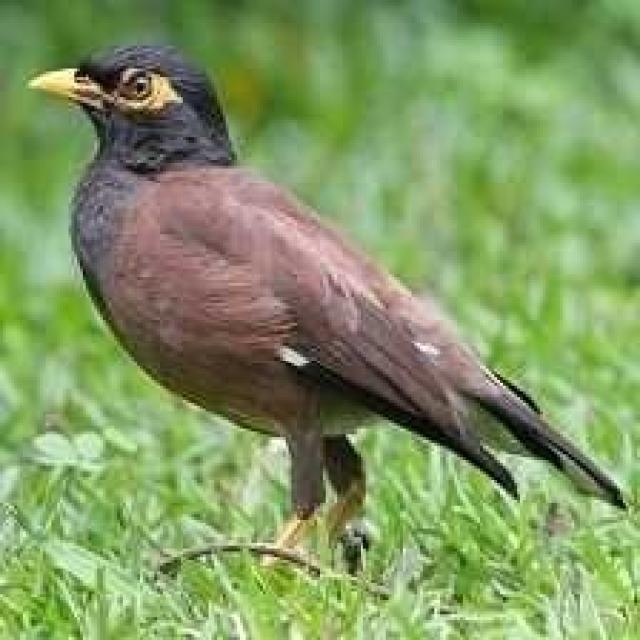bird: (26, 35, 626, 568)
